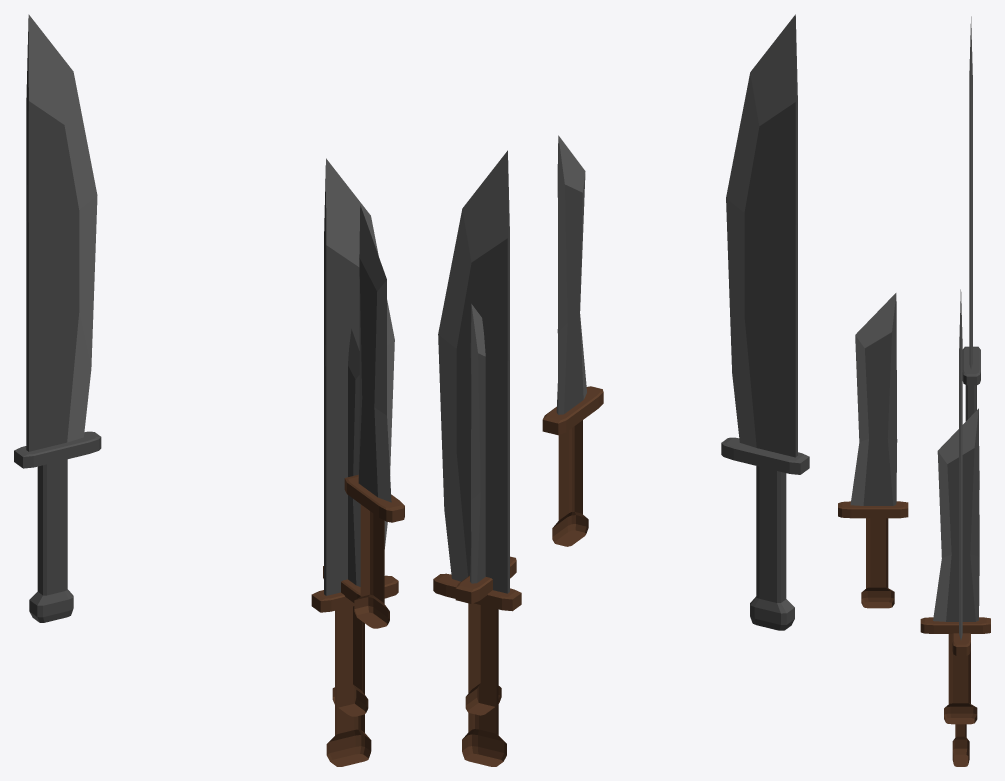
The model's file is waffenSchulProj.fbx.
The picture shows the model from 3 angles, left to right: view 1: azimuth 30°, elevation 25°; view 2: azimuth 150°, elevation 25°; view 3: azimuth 270°, elevation 25°; orthographic projection. The views are drawn at different scales.
Parts seen in each view (by area): view 1: waffe2, Cube.002, Degger joint, schwert 2, Klinge 1, griff, handschutz schwert2.001; view 2: waffe2, Cube.002, Degger joint, schwert 2, Klinge 1, griff, handschutz schwert2.001, gandschutz; view 3: Degger joint, Klinge 1, waffe2, griff, Cube.002, gandschutz, schwert 2, handschutz schwert2.001.
Part boxes in pixels (x1,y1,x2,y2): waffe2: (14,14,101,622); Cube.002: (324,158,394,595); Degger joint: (344,205,404,628); schwert 2: (326,606,371,766); Klinge 1: (348,329,360,586); griff: (332,606,368,716); handschutz schwert2.001: (311,575,398,612); waffe2: (721,14,809,630); Cube.002: (438,150,509,593); Degger joint: (542,135,603,546); schwert 2: (462,603,506,766); Klinge 1: (470,304,485,583); griff: (465,603,501,715); handschutz schwert2.001: (433,573,521,611); gandschutz: (455,556,516,603); Degger joint: (838,293,908,608); Klinge 1: (933,408,979,621); waffe2: (962,16,980,489); griff: (944,634,977,724); Cube.002: (959,289,962,639); gandschutz: (920,617,990,633); schwert 2: (952,724,969,766); handschutz schwert2.001: (952,633,970,655).
Bounding box in the file's own units: 1470 × 3107 × 685.
